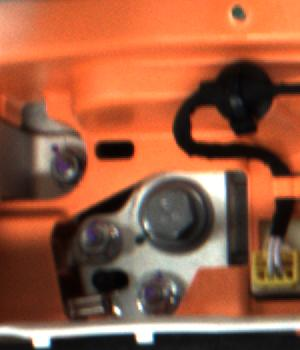nut_b: (135, 174, 217, 257)
